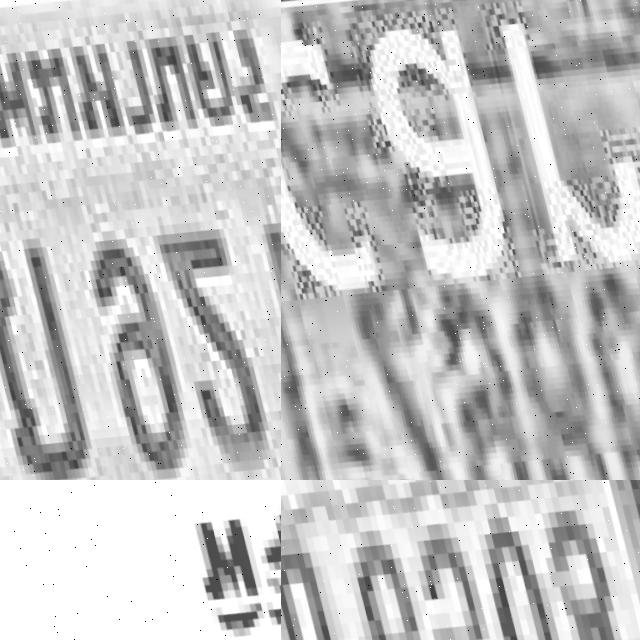license-plate: (281, 0, 640, 480), (0, 0, 281, 480), (281, 480, 640, 640), (0, 480, 281, 640)
